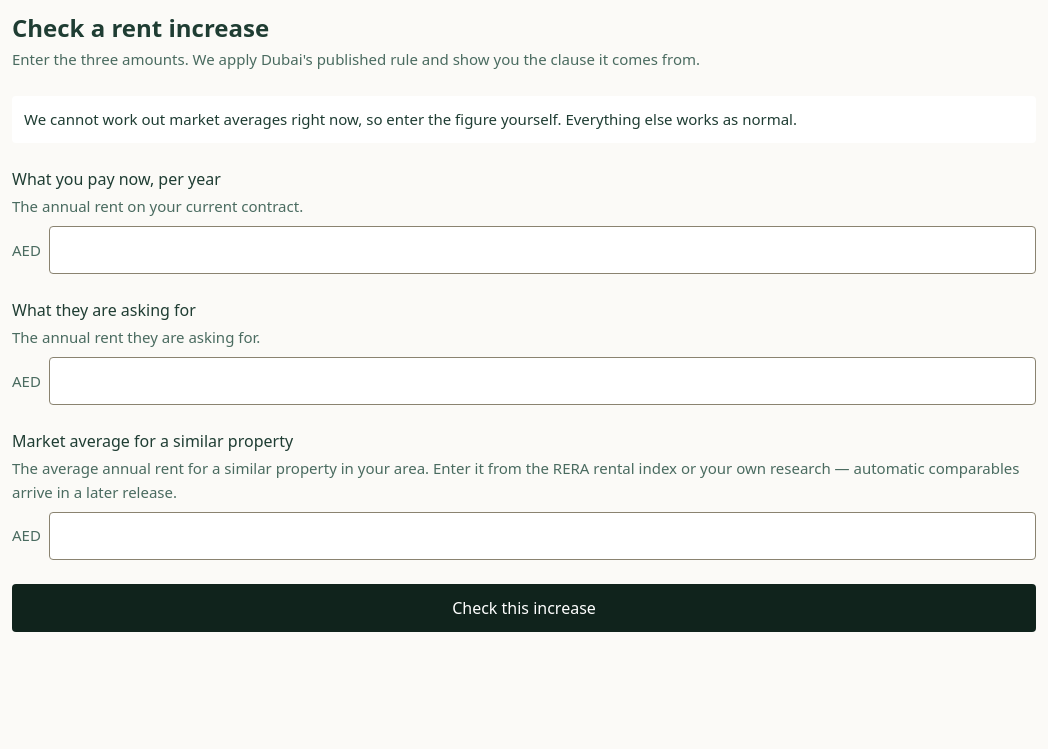
Test: Checker › quotes no figure at all when the data is too thin
Type "80000" into the field labelled "What you pay now, per year" at {"x": 542, "y": 250}, box [49, 226, 1036, 274]
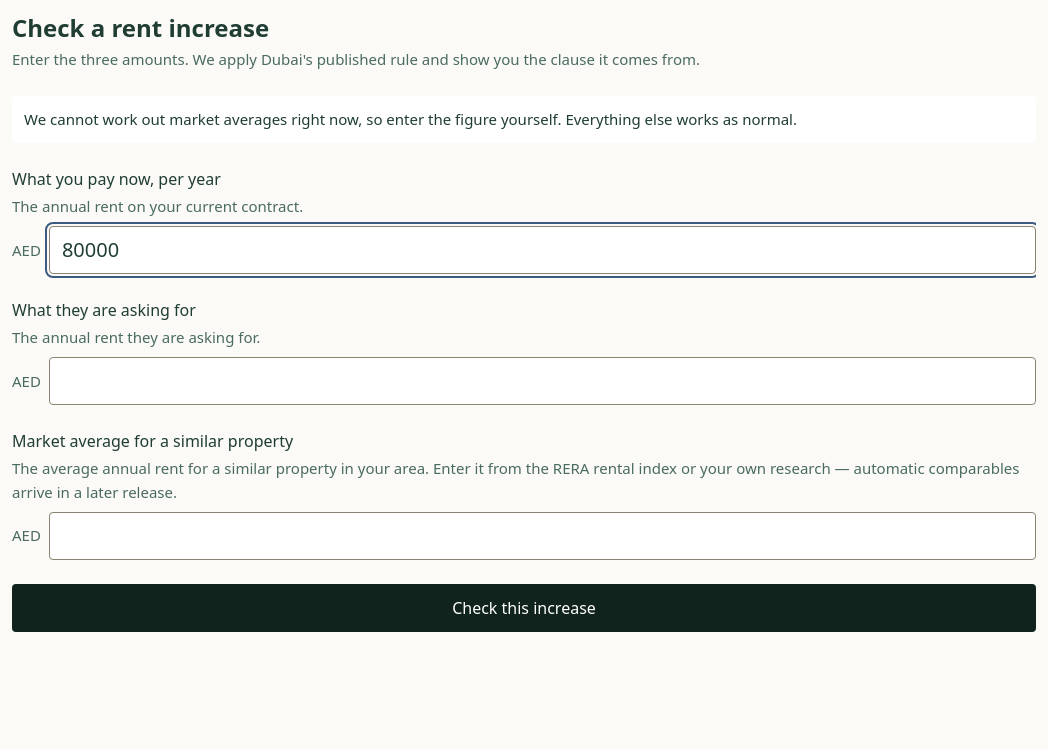
Type "96000" into the field labelled "What they are asking for" at {"x": 542, "y": 381}, box [49, 357, 1036, 405]
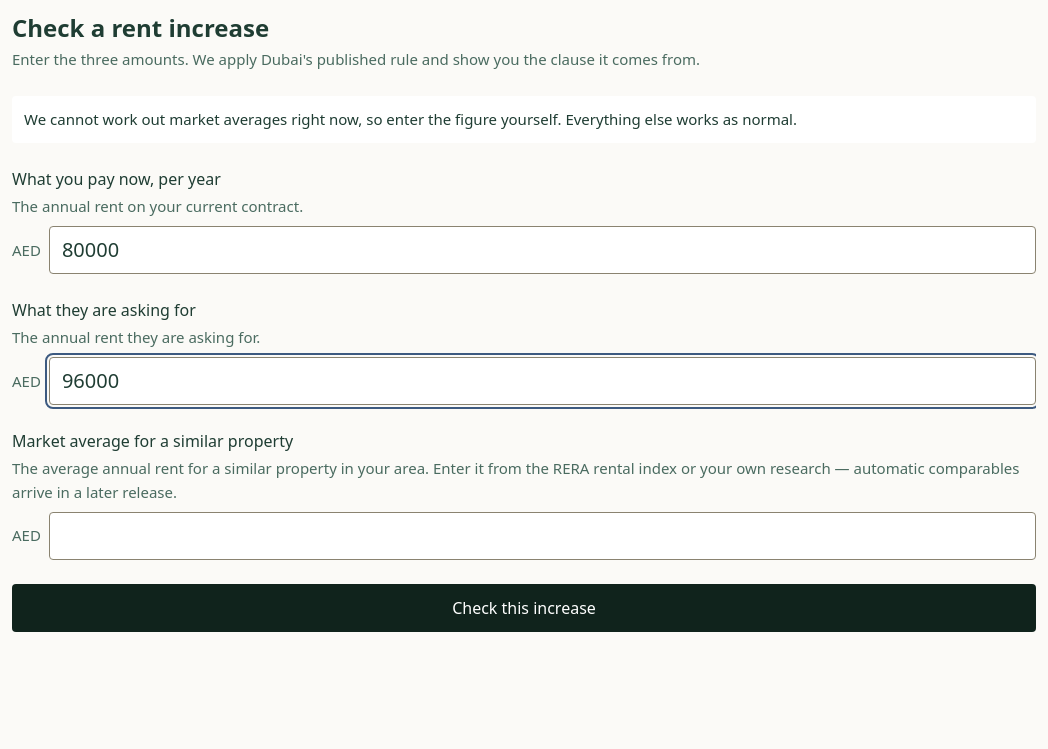
Type "87000" into the field labelled "Market average for a similar property" at {"x": 542, "y": 536}, box [49, 512, 1036, 560]
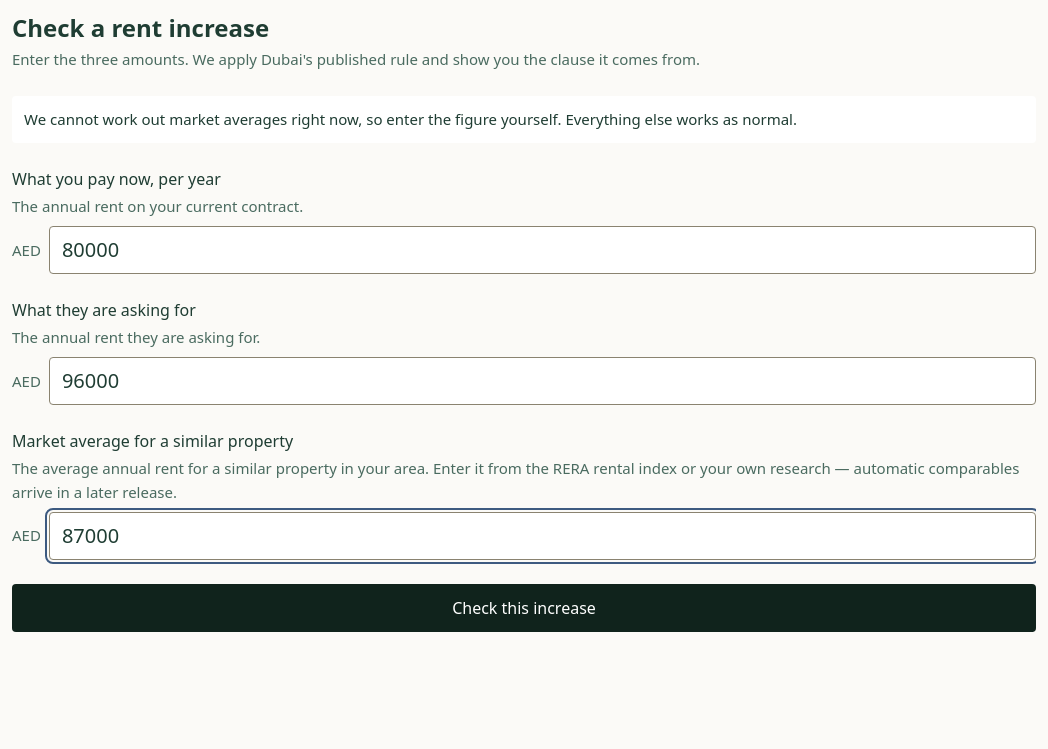
Click the button "Check this increase" at {"x": 524, "y": 608}, box [12, 584, 1036, 632]
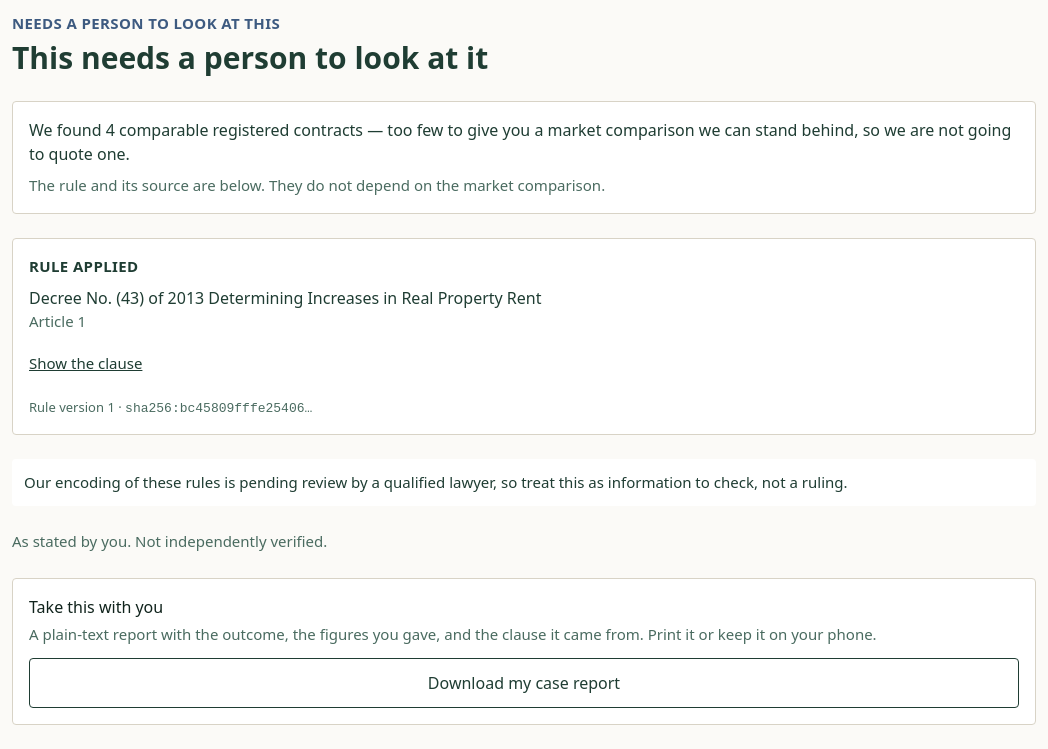
Result: the heading "This needs a person to look at it" is shown at [12, 37, 488, 78]
